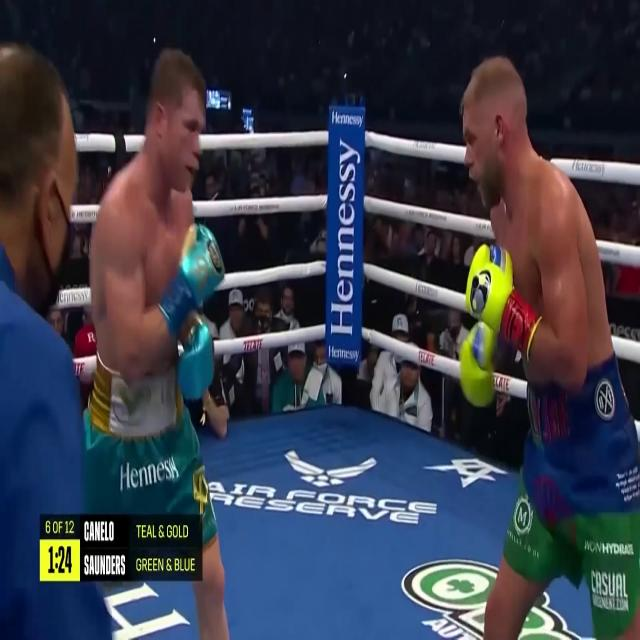boxer_1: (461, 57, 613, 383)
boxer_2: (92, 50, 206, 369)
gloves_1: (459, 244, 537, 408)
gloves_2: (158, 223, 225, 401)
